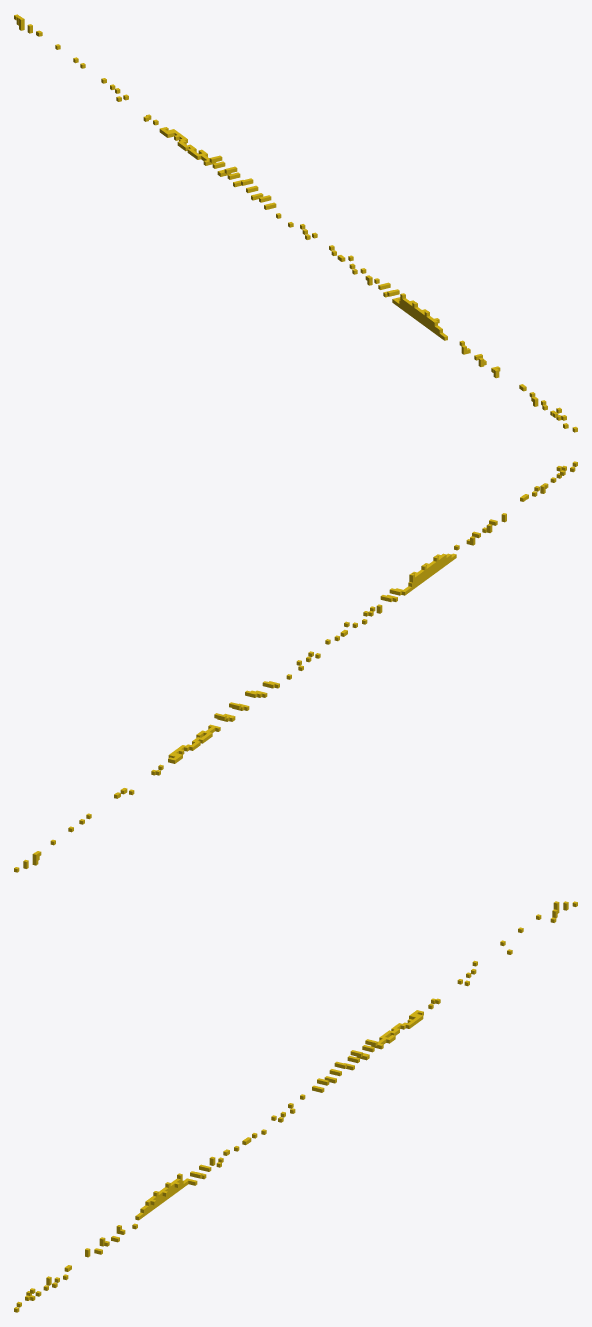
Rendered from Wall Lvl3.fbx.
3 renders of one model, top to bottom at view 1: azimuth 30°, elevation 25°; view 2: azimuth 150°, elevation 25°; view 3: azimuth 330°, elevation 25°, orthographic.
Size of the model in its own units: 600 by 800 by 56200.
